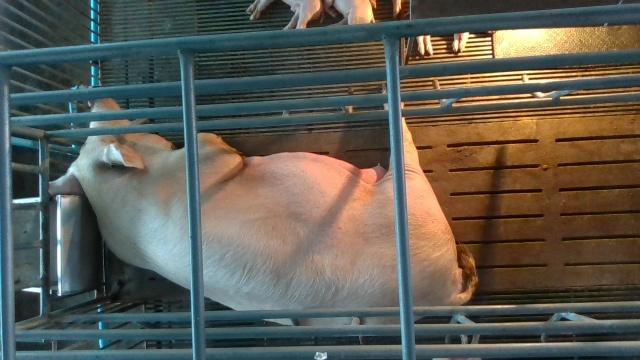piglet: (247, 0, 324, 31), (322, 0, 377, 26)
sow-sit: (47, 97, 481, 325)
